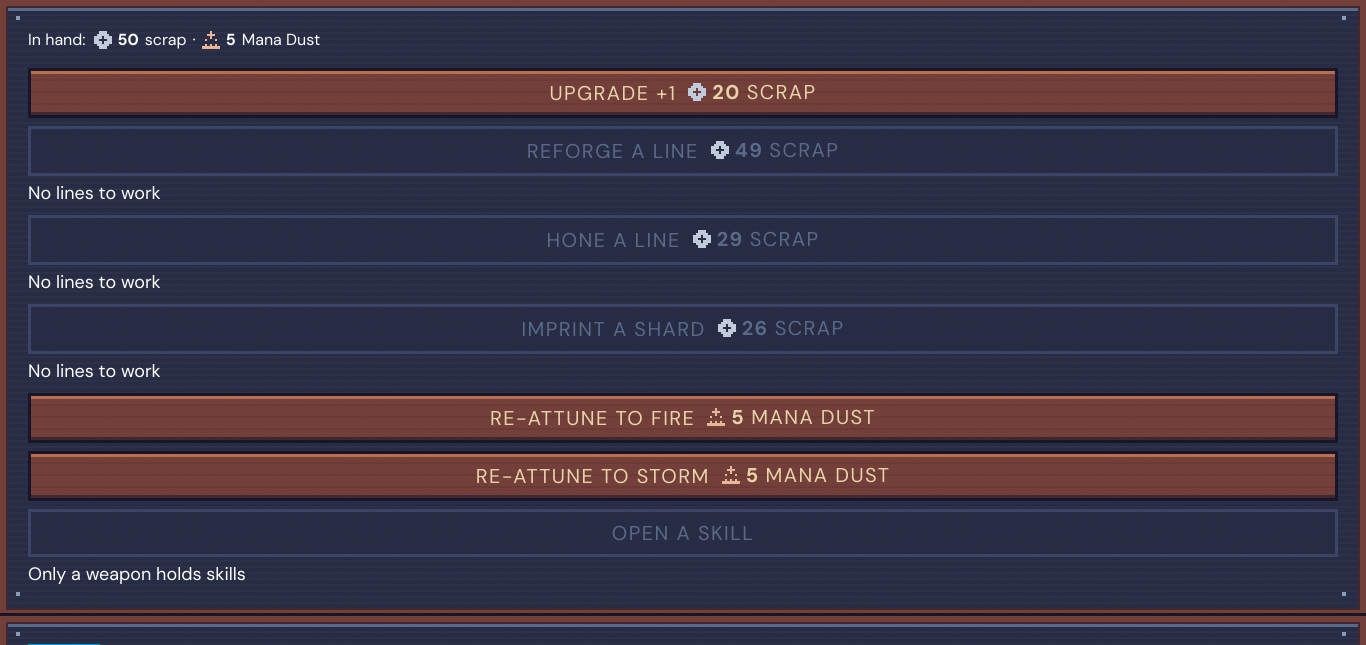
Scenario: Temper › re-attunes to the pair's other element for Mana Dust: a row each off the pair, one in it
Expected: the button with test id "temper-op-reattune-fire" shows "Re-attune to Fire", [28, 393, 1338, 443]
Expected: the button with test id "temper-op-reattune-fire" shows "5 Mana Dust", [28, 393, 1338, 443]
Click the button with test id "temper-op-reattune-storm" at (683, 476), box [28, 451, 1338, 501]
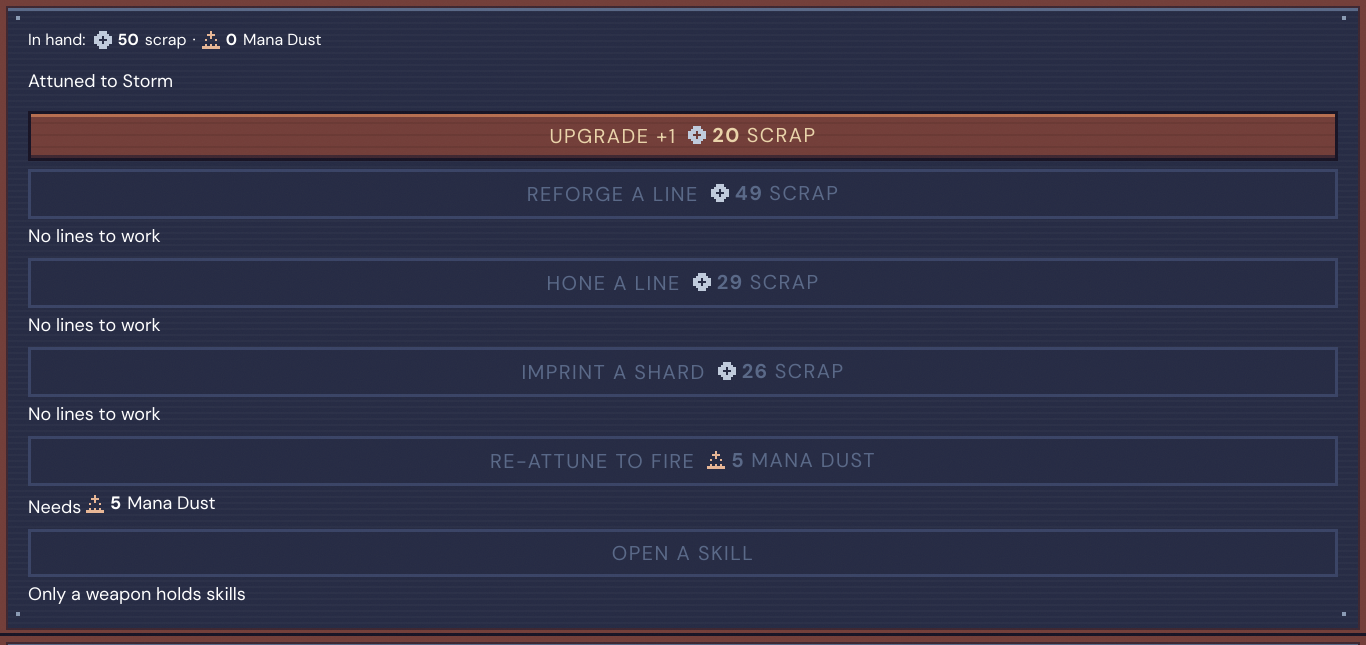
Expected: the button with test id "temper-op-reattune" shows "Re-attune to Fire", [28, 436, 1338, 486]
Now the button with test id "temper-op-reattune-storm" is gone
Now the message reads "Attuned to Storm", box [28, 69, 173, 93]
